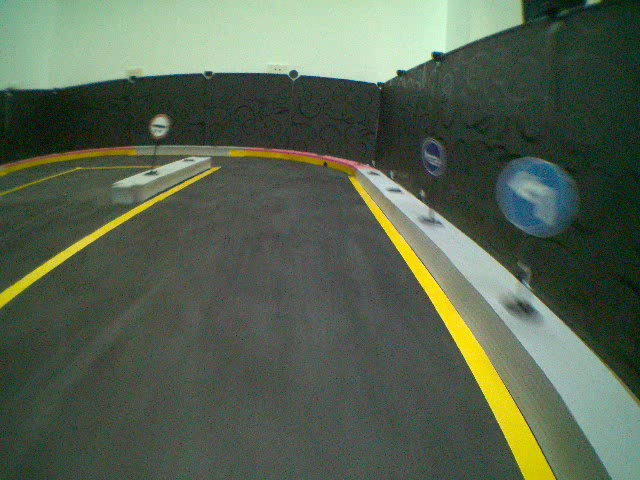Check: (148, 113, 173, 140)
horn: (419, 135, 451, 180)
turn: (487, 151, 585, 243)
